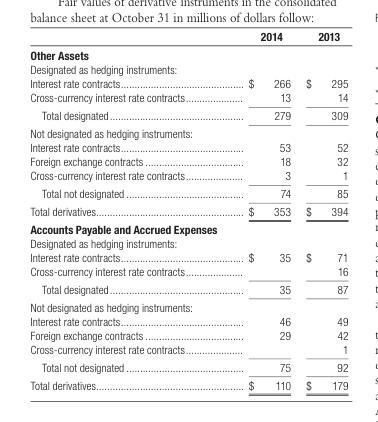table: (29, 28, 347, 390)
table column: (29, 28, 215, 390), (215, 28, 297, 390), (297, 28, 347, 390)
table column header: (29, 28, 347, 45)
table projected row header: (29, 45, 347, 62), (29, 123, 347, 139), (29, 219, 347, 235), (29, 297, 347, 313), (29, 62, 347, 76), (29, 235, 347, 249)
table row: (29, 183, 347, 201), (29, 201, 347, 219), (29, 279, 347, 297), (29, 357, 347, 375), (29, 28, 347, 45), (29, 45, 347, 62), (29, 106, 347, 123), (29, 90, 347, 106), (29, 123, 347, 139), (29, 167, 347, 183), (29, 219, 347, 235), (29, 263, 347, 279), (29, 297, 347, 313), (29, 341, 347, 357), (29, 375, 347, 390), (29, 62, 347, 76), (29, 76, 347, 90), (29, 139, 347, 153), (29, 153, 347, 167), (29, 235, 347, 249), (29, 249, 347, 263), (29, 313, 347, 327), (29, 327, 347, 341)
